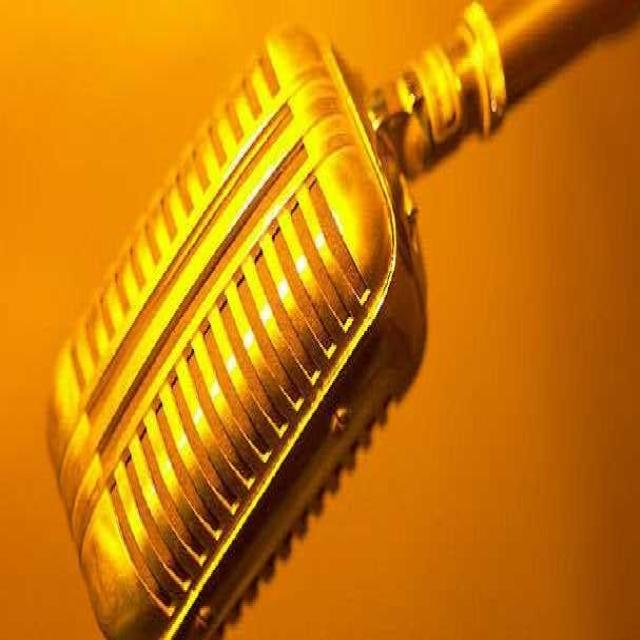microphone: (53, 3, 636, 623)
